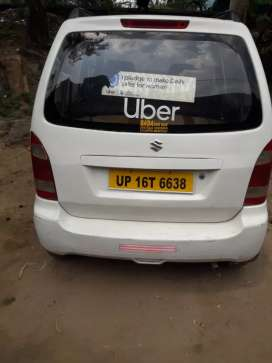nameplate: (109, 169, 194, 191)
